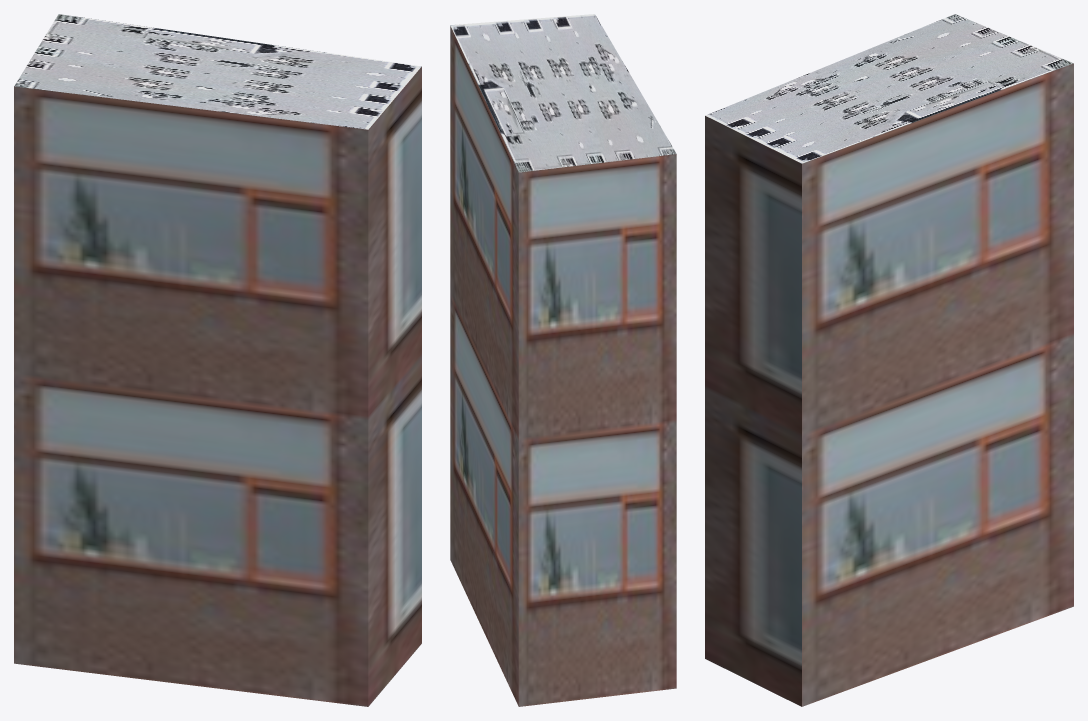
File: ResTex__3117.fbx
The picture shows the model from 3 angles, left to right: view 1: azimuth 30°, elevation 25°; view 2: azimuth 150°, elevation 25°; view 3: azimuth 270°, elevation 25°; orthographic projection. The views are drawn at different scales.
Parts seen in each view (by area): view 1: CityEngineMaterial_19_m, CityEngineMaterial_15_m; view 2: CityEngineMaterial_19_m, CityEngineMaterial_15_m; view 3: CityEngineMaterial_19_m, CityEngineMaterial_15_m.
Part boxes in pixels (x1=…): CityEngineMaterial_19_m: x1=14, y1=66, x2=421, y2=706; CityEngineMaterial_15_m: x1=14, y1=14, x2=421, y2=129; CityEngineMaterial_19_m: x1=450, y1=26, x2=676, y2=706; CityEngineMaterial_15_m: x1=450, y1=14, x2=676, y2=172; CityEngineMaterial_19_m: x1=705, y1=63, x2=1073, y2=706; CityEngineMaterial_15_m: x1=705, y1=14, x2=1073, y2=163.
Bounding box in the file's own units: 3.55 × 6 × 3.69.
2 materials, 2 textured.
